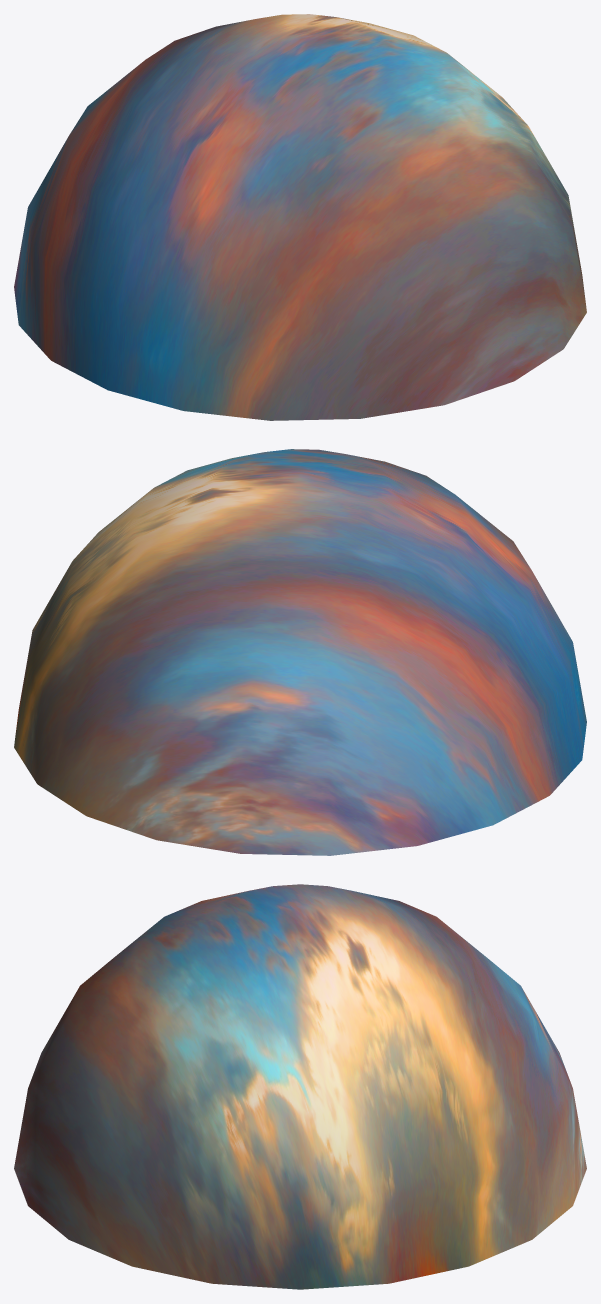
File: map_2.obj
3 views of the same model, one above another, from view 1: azimuth 30°, elevation 25°; view 2: azimuth 150°, elevation 25°; view 3: azimuth 270°, elevation 25° (orthographic).
Visible parts, largest first — view 1: Sphere001; view 2: Sphere001; view 3: Sphere001.
Boxes of the visible parts, left/top/right/bottom form: Sphere001: left=14, top=14, right=586, bottom=420; Sphere001: left=14, top=449, right=586, bottom=855; Sphere001: left=14, top=884, right=586, bottom=1289.
Bounding box in the file's own units: 10547 × 5431 × 10547.
Materials: 8 (8 with a texture image).
